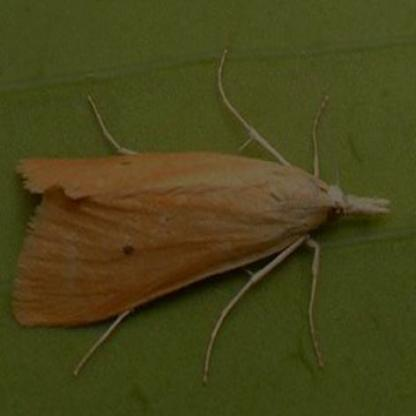stem-borer: (8, 149, 394, 352)
